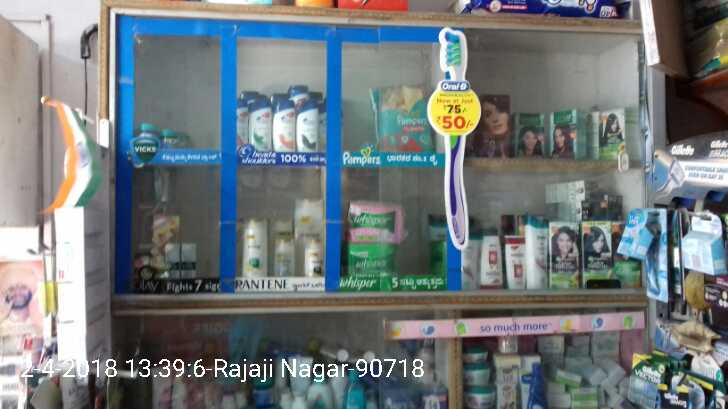vicks: (142, 123, 189, 146)
